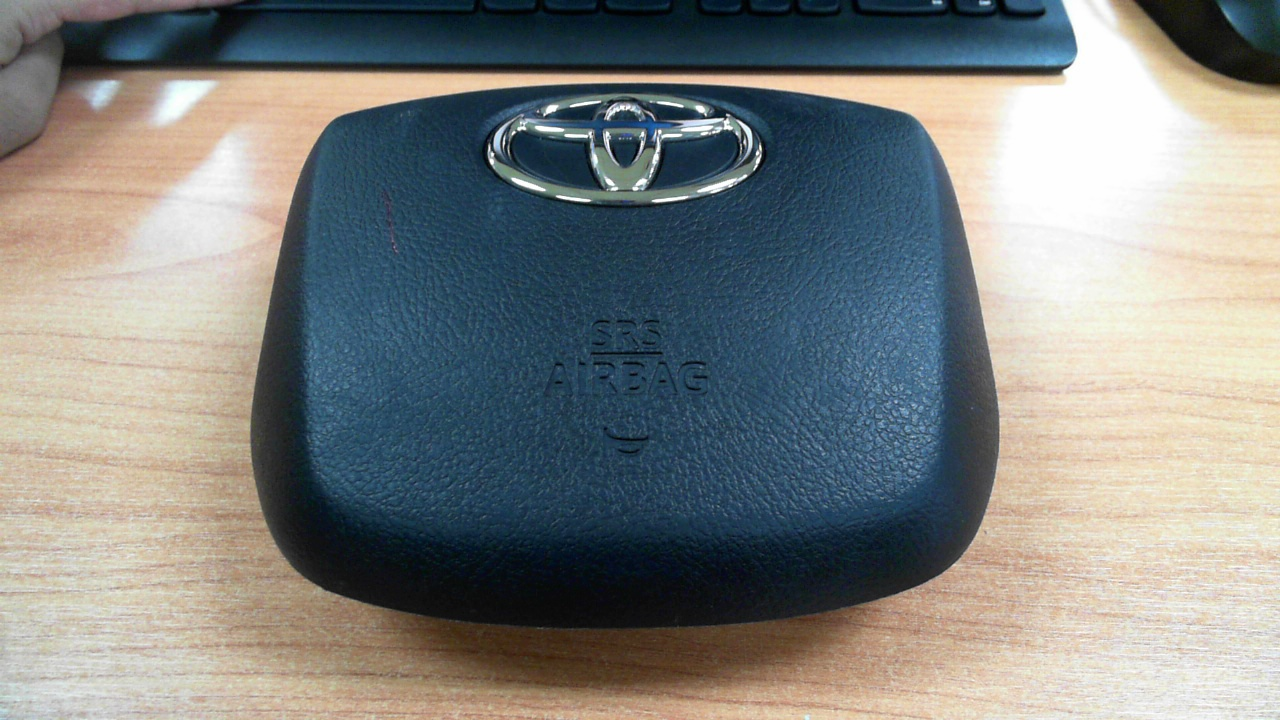Airbag: (242, 82, 998, 631)
Toyota: (486, 93, 763, 206)
